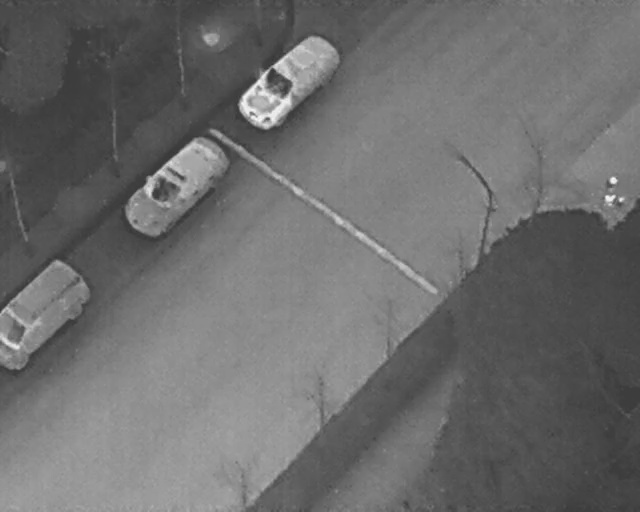Car: (114, 126, 238, 245), (231, 24, 345, 139), (1, 252, 90, 370)
